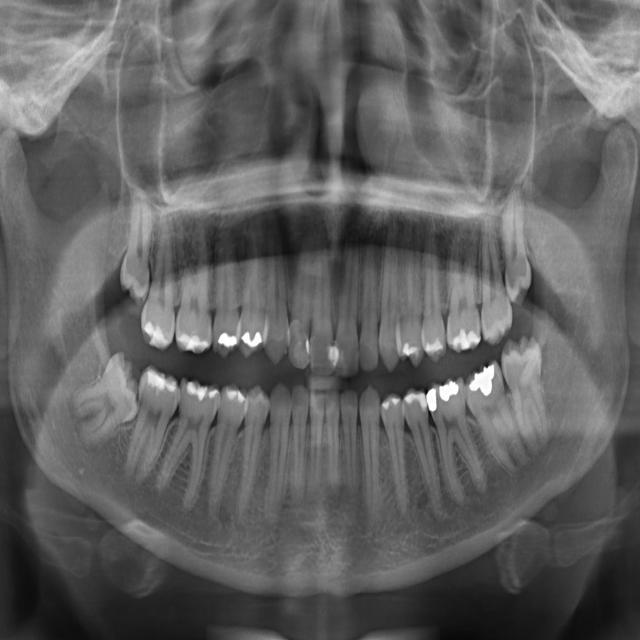3M ESPE Implant: (117, 185, 156, 307)
AGS Medikal Implant: (357, 237, 381, 376)
AMerOss Implant: (379, 207, 401, 372)
Amalgam filling: (398, 217, 425, 367)
Anthogyr Implant: (420, 217, 448, 364)
Bicon Implant: (443, 212, 483, 353)
BioHorizons Implant: (472, 208, 515, 348)
BioLife Implant: (502, 183, 532, 308)
Biomet 3i Implant: (540, 444, 540, 445)
Blue Sky Bio Implant: (455, 357, 533, 484)
Camlog Implant: (422, 372, 492, 511)
Caries: (139, 214, 176, 351)
Composite filling: (400, 384, 445, 523)
Cowellmedi Implant: (378, 390, 416, 527)
Crown: (358, 383, 383, 526)
DENTSPLY Implant: (340, 387, 358, 493)
Dentatus Implant: (324, 389, 339, 488)
Dentis Implant: (306, 389, 325, 500)
Dentium Implant: (290, 382, 310, 505)
Euroteknika Implant: (266, 382, 290, 529)
Filling: (231, 382, 271, 523)
Frontier Implant: (203, 382, 247, 529)
Hiossen Implant: (175, 212, 212, 353)
Implant: (121, 363, 184, 493)
Implant Direct: (150, 374, 223, 513)
Keystone Dental Implant: (54, 349, 161, 458)
MIS Implant: (212, 205, 242, 358)
Mandible: (239, 213, 265, 360)
Maxilla: (266, 207, 289, 364)
Megagen Implant: (287, 225, 316, 370)
Neodent Implant: (309, 219, 334, 377)
Neoss Implant: (335, 220, 360, 379)
